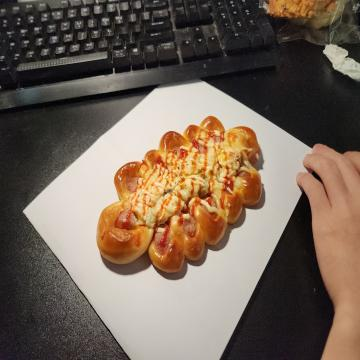pizza_bread: (94, 113, 264, 276)
